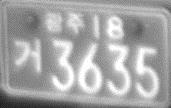1: (92, 12, 101, 40)
3: (50, 38, 75, 92), (106, 43, 131, 97)
5: (134, 45, 159, 98)
6: (78, 42, 105, 94)
8: (105, 14, 125, 41)
거: (13, 37, 42, 75)
광주_O: (45, 10, 85, 34)
